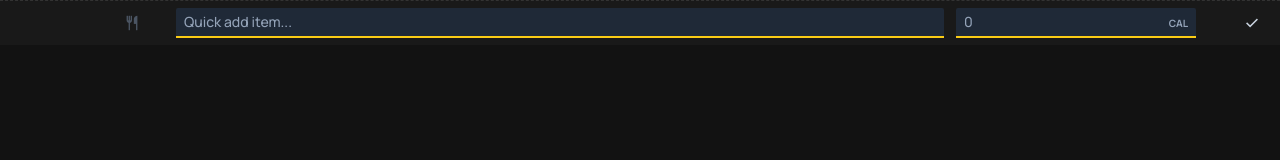
Scenario: QuickAdd › maintains stable ratio to prevent rounding errors
The width and height of the screenshot is (1280, 160).
Click the button titled "Current type: FOOD. Click to toggle." at (132, 23), box [116,7,148,39]
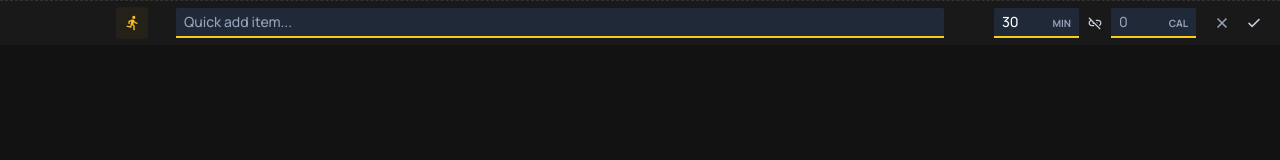
Initial: 10 mins, 34 cals (Ratio 3.4)
Replace the text in the number field named "Minutes" with "10" at (1036, 23), box [994,8,1079,38]
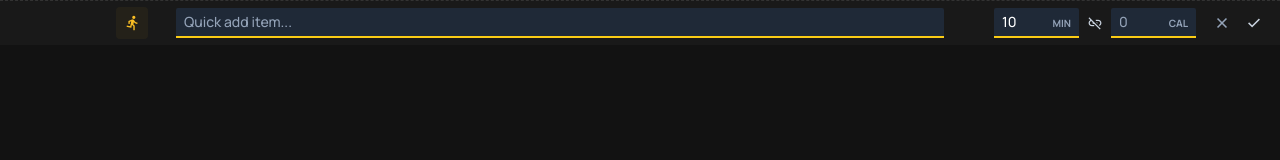
Type "34" into the number field named "Calories" at (1154, 23), box [1111,8,1196,38]
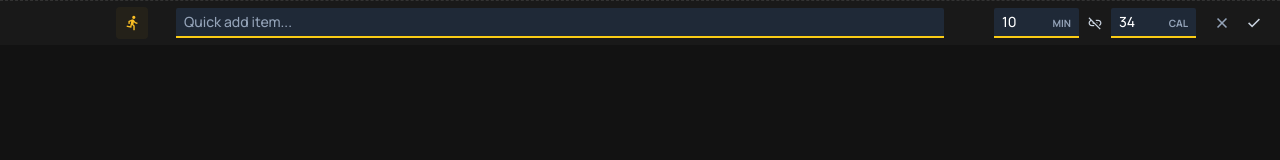
Click the button titled "Link (edit proportionally)" at (1095, 23), box [1083,11,1107,35]
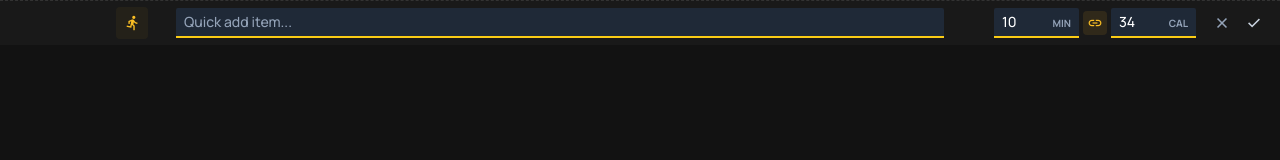
Replace the text in the number field named "Minutes" with "11" at (1036, 23), box [994,8,1079,38]
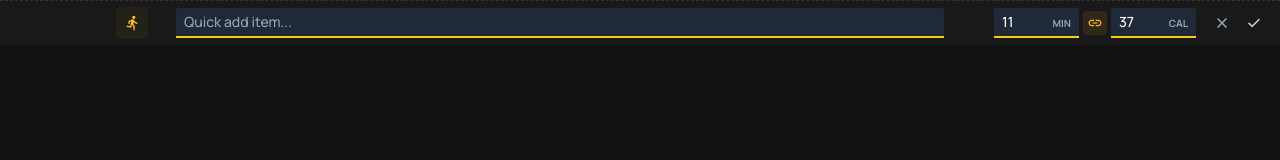
Expected: the number field named "Calories" holds "37", [1111,8,1196,38]
Replace the text in the number field named "Minutes" with "20" at (1036, 23), box [994,8,1079,38]
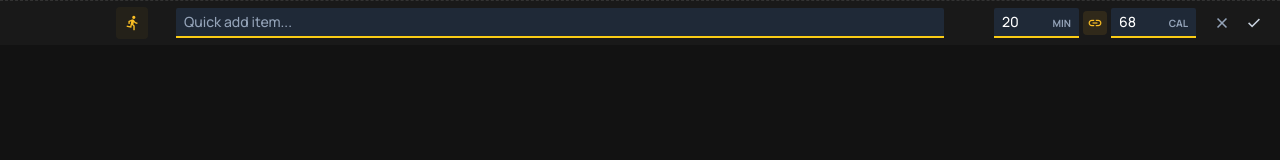
Expected: the number field named "Calories" holds "68", [1111,8,1196,38]
